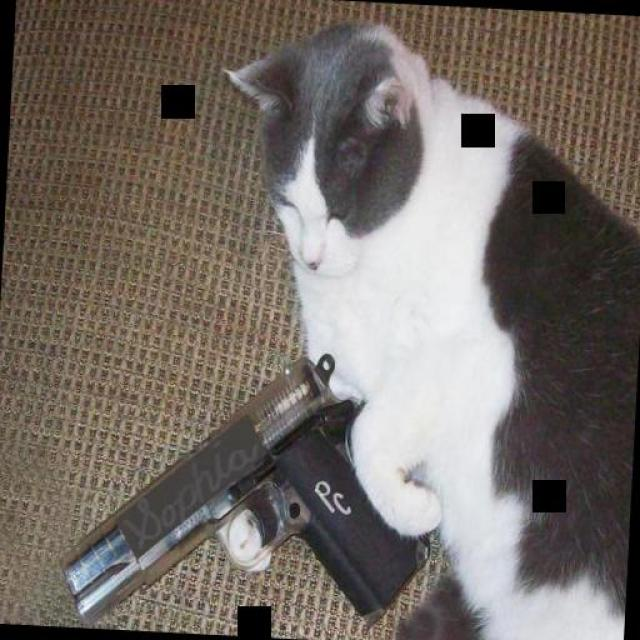gun: (55, 319, 440, 640)
